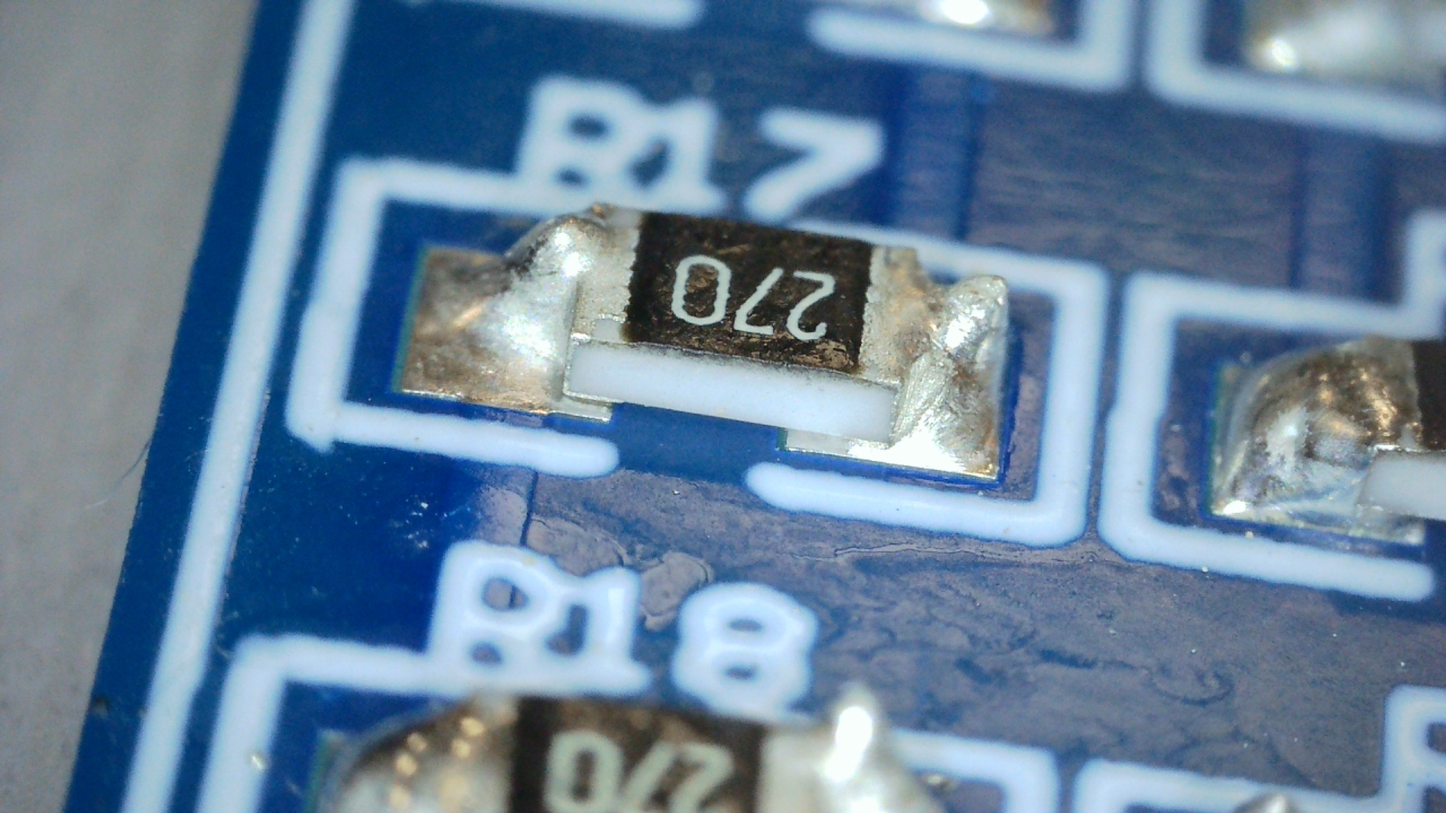NG: (889, 276, 1006, 464), (505, 212, 611, 292)
